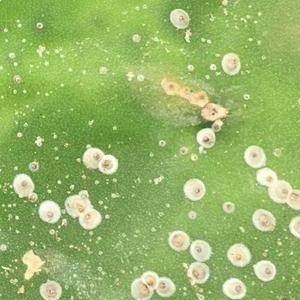Femea: (38, 204, 59, 224), (228, 246, 249, 266), (244, 147, 264, 167), (270, 180, 289, 199), (257, 166, 275, 185), (79, 212, 100, 228), (189, 243, 207, 259), (223, 281, 242, 296), (186, 183, 203, 199), (195, 131, 212, 146), (12, 177, 29, 192), (169, 11, 187, 24), (257, 263, 272, 277)
Linfa: (152, 173, 163, 185), (33, 136, 44, 147), (238, 13, 250, 23), (92, 234, 103, 244), (79, 241, 90, 249), (14, 18, 22, 29), (67, 242, 77, 250), (14, 130, 22, 138), (11, 59, 18, 67), (55, 178, 62, 185), (238, 225, 245, 232), (74, 157, 81, 163), (105, 213, 112, 219), (97, 250, 103, 255), (52, 134, 58, 139)
